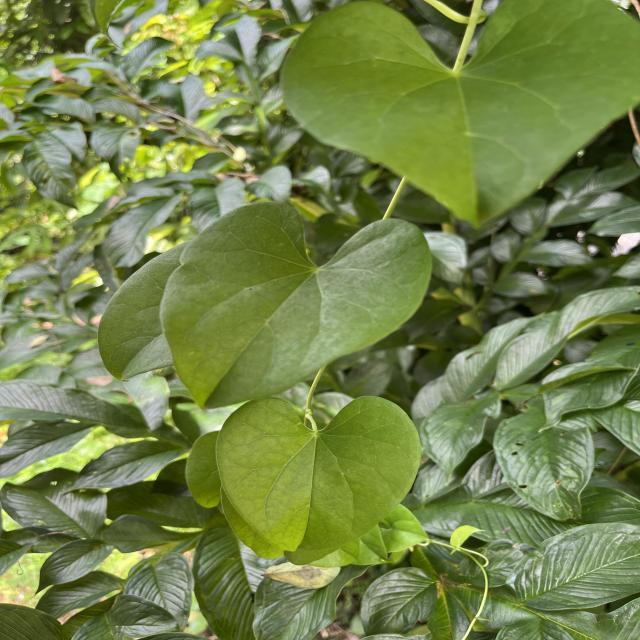Tinospora cordifolia: (277, 1, 640, 236), (158, 198, 438, 414), (213, 393, 426, 554)
